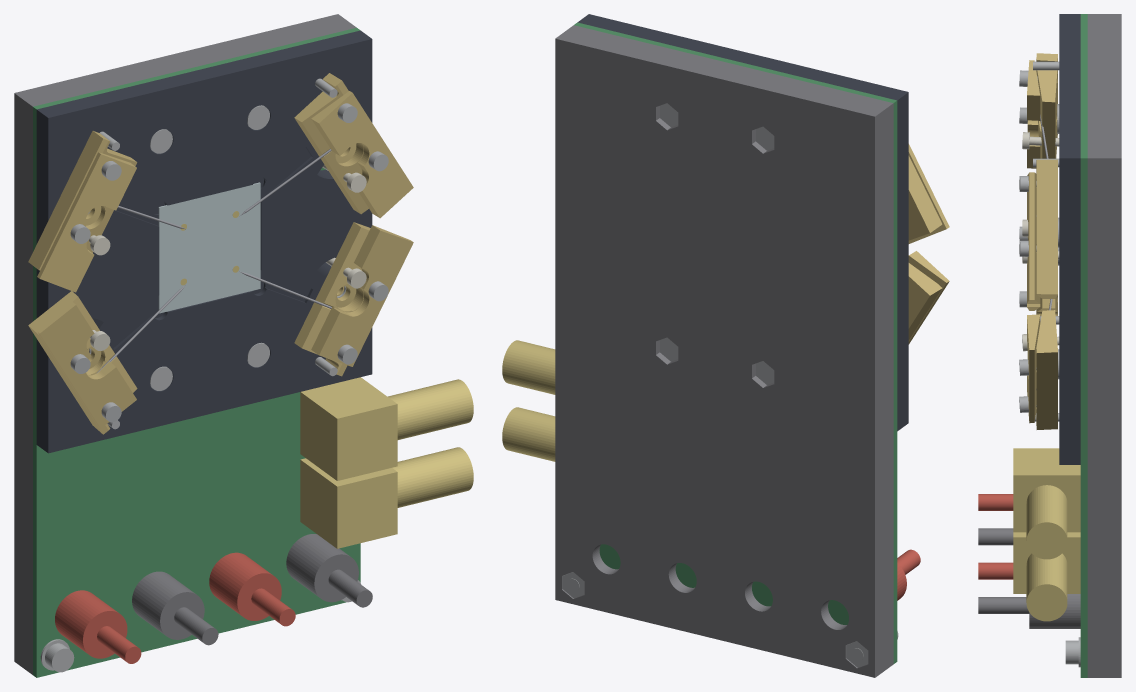
The model's file is T2P-P-lifted.glb.
3 views of the same model, side by side, from view 1: azimuth 30°, elevation 25°; view 2: azimuth 150°, elevation 25°; view 3: azimuth 270°, elevation 25° (orthographic). The views are drawn at different scales.
Visible parts, largest first — view 1: p002, p001, p000, p017, p007, p016, p065, p056, p047, p038, p013, p012 (+6 smaller); view 2: p000, p002, p001, p016, p017, p054, p045, p047, p056, p012; view 3: p000, p002, p017, p001, p016, p036, p063, p054, p015, p038, p056, p065 (+7 smaller).
Boxes of the visible parts, bbox=[...] form: p002: bbox=[36, 30, 372, 453]; p001: bbox=[33, 27, 360, 677]; p000: bbox=[14, 14, 356, 674]; p017: bbox=[300, 377, 473, 480]; p007: bbox=[158, 182, 260, 313]; p016: bbox=[300, 447, 473, 548]; p065: bbox=[311, 225, 413, 366]; p056: bbox=[37, 152, 136, 292]; p047: bbox=[37, 299, 136, 428]; p038: bbox=[311, 91, 413, 218]; p013: bbox=[132, 571, 218, 645]; p012: bbox=[55, 590, 141, 663]; p000: bbox=[555, 25, 893, 677]; p002: bbox=[577, 14, 908, 431]; p001: bbox=[574, 22, 897, 663]; p016: bbox=[502, 407, 555, 461]; p017: bbox=[502, 340, 555, 394]; p054: bbox=[908, 156, 942, 240]; p045: bbox=[908, 263, 942, 340]; p047: bbox=[908, 251, 949, 344]; p056: bbox=[908, 144, 949, 243]; p012: bbox=[897, 549, 920, 600]; p000: bbox=[1087, 14, 1121, 677]; p002: bbox=[1059, 14, 1080, 464]; p017: bbox=[1013, 448, 1080, 559]; p001: bbox=[1080, 14, 1087, 677]; p016: bbox=[1013, 532, 1080, 621]; p036: bbox=[1036, 159, 1057, 298]; p063: bbox=[1036, 310, 1057, 429]; p054: bbox=[1036, 53, 1057, 158]; p015: bbox=[978, 594, 1080, 628]; p038: bbox=[1027, 172, 1040, 303]; p056: bbox=[1027, 60, 1040, 168]; p065: bbox=[1027, 314, 1040, 423].
Bounding box in the file's own units: 107 × 134 × 33.6.
